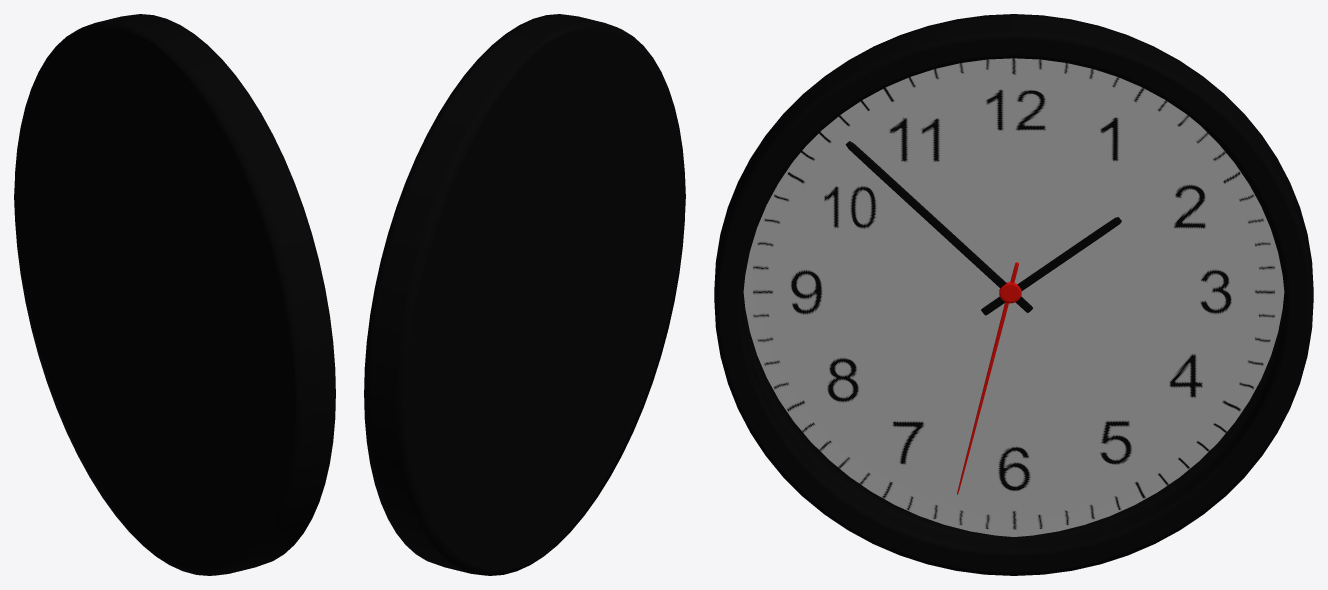
File: Horloge.glb
3 views of the same model, side by side, from view 1: azimuth 30°, elevation 25°; view 2: azimuth 150°, elevation 25°; view 3: azimuth 270°, elevation 25° (orthographic). The views are drawn at different scales.
Parts seen in each view (by area): view 1: Cylinder.001_Baked; view 2: Cylinder.001_Baked; view 3: Cylinder.001_Baked.
Part boxes in pixels (x1=…): Cylinder.001_Baked: x1=14, y1=14, x2=335, y2=575; Cylinder.001_Baked: x1=364, y1=14, x2=685, y2=575; Cylinder.001_Baked: x1=714, y1=14, x2=1313, y2=575.
Size of the model in its own units: 0.1635 by 1.99 by 1.99.
Materials: 1 (1 with a texture image).
